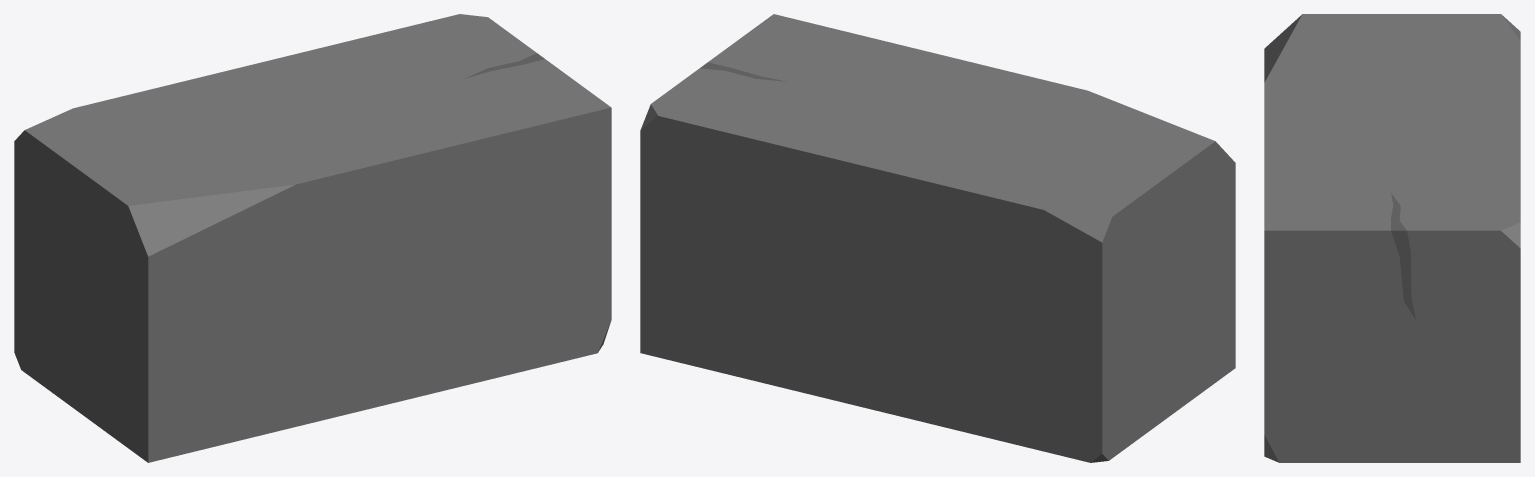
File: Brick_01.fbx
3 renders of one model, left to right at view 1: azimuth 30°, elevation 25°; view 2: azimuth 150°, elevation 25°; view 3: azimuth 270°, elevation 25°, orthographic. The views are drawn at different scales.
Visible parts, largest first — view 1: Brick_01_LOD0; view 2: Brick_01_LOD0; view 3: Brick_01_LOD0.
Boxes of the visible parts, <box> form: Brick_01_LOD0: <box>14,14,611,462</box>; Brick_01_LOD0: <box>640,14,1235,462</box>; Brick_01_LOD0: <box>1264,14,1520,462</box>.
Size of what is drawn, in the model's own units: 0.7598 by 0.3799 by 0.3799.
